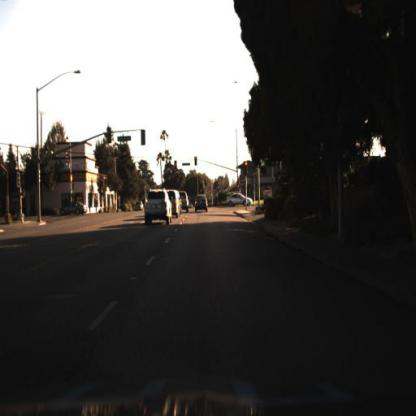car: (142, 188, 174, 229), (60, 199, 88, 220), (228, 191, 257, 207), (193, 192, 210, 215), (169, 191, 182, 217), (180, 186, 191, 216)
trafficLight-Red: (243, 160, 251, 178)
